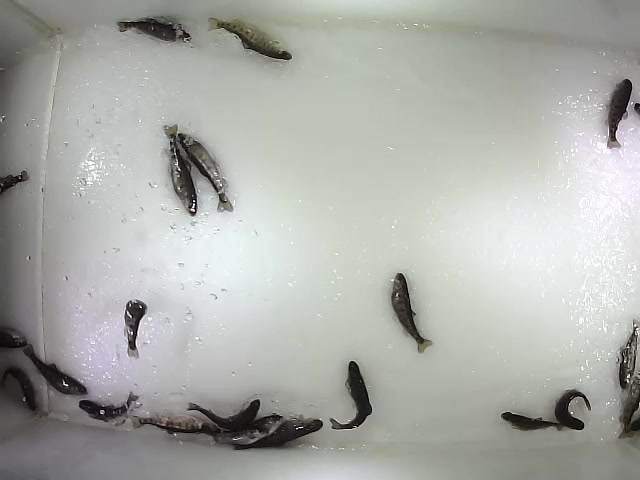fish: (176, 132, 236, 215), (205, 15, 295, 62), (161, 122, 199, 219), (390, 272, 434, 355), (23, 344, 89, 396), (329, 360, 375, 431), (232, 416, 324, 451), (185, 396, 261, 432), (211, 412, 284, 446), (115, 17, 193, 47), (604, 76, 634, 152), (78, 390, 141, 424), (132, 413, 222, 436), (1, 364, 39, 413), (617, 318, 640, 391), (553, 389, 592, 431), (122, 298, 147, 360), (500, 411, 565, 434)
